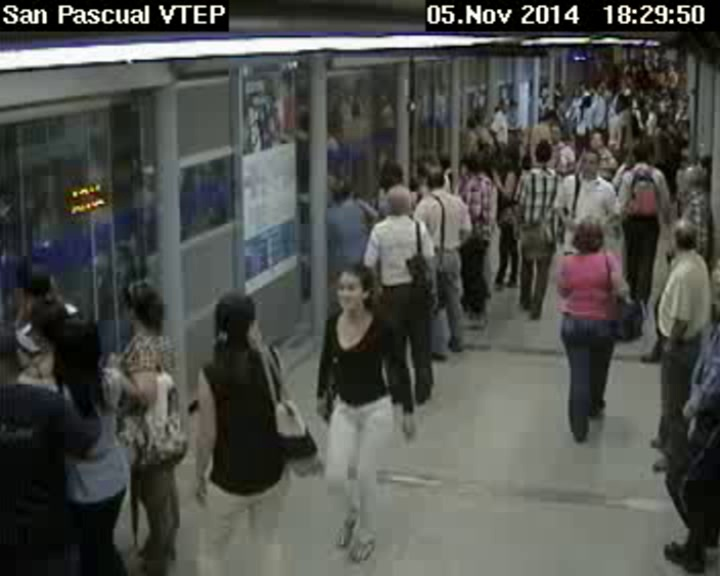person: (49, 319, 110, 384), (209, 286, 264, 353), (120, 279, 167, 336), (330, 261, 377, 314), (1, 324, 37, 382), (28, 297, 72, 343), (21, 267, 62, 299), (570, 218, 606, 253), (667, 215, 696, 255), (385, 184, 417, 217), (414, 161, 444, 193), (374, 158, 405, 187), (573, 150, 605, 176), (328, 174, 353, 205), (677, 163, 701, 193), (545, 120, 569, 142), (629, 143, 650, 165), (533, 140, 551, 165), (465, 154, 486, 172), (503, 147, 523, 163), (589, 130, 604, 148), (614, 97, 628, 111), (473, 107, 485, 122), (508, 98, 518, 113), (580, 97, 592, 107), (465, 116, 474, 129), (499, 100, 506, 115)
